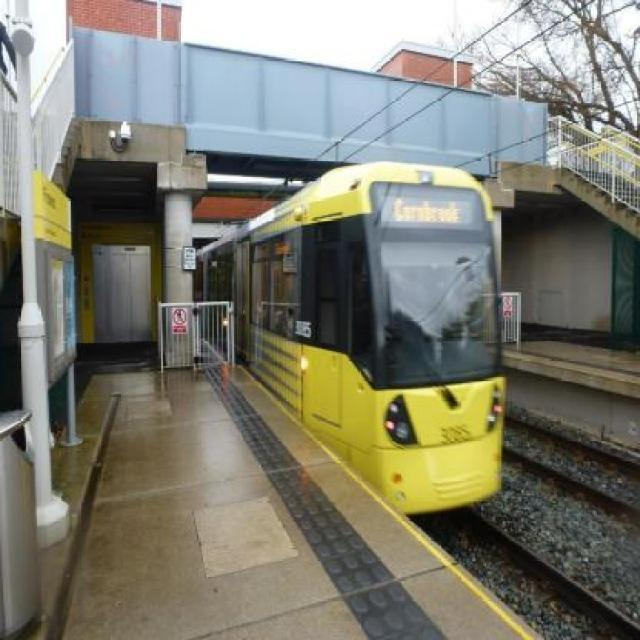stair: (563, 164, 640, 218)
